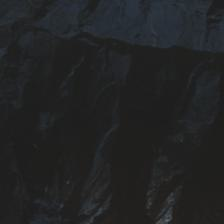landslides: (148, 13, 157, 48), (90, 155, 102, 173)
